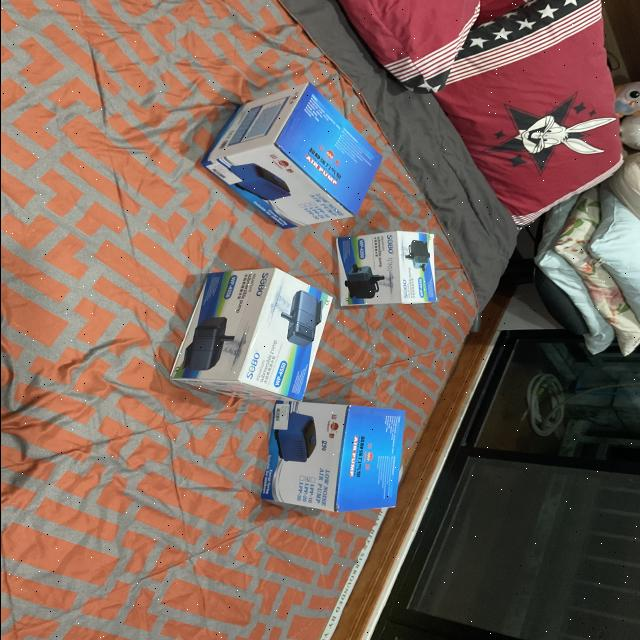SOBO_WP_4200: (154, 264, 346, 416), (323, 225, 452, 322)
YAMANO_LPP_20: (182, 79, 392, 235), (244, 390, 408, 543)
